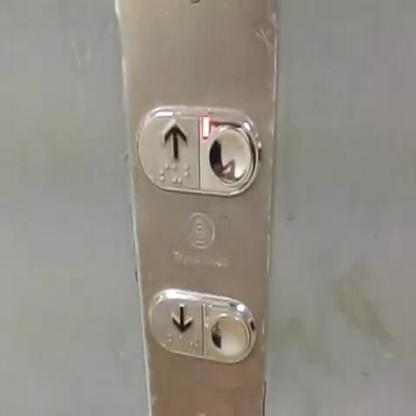down: (145, 284, 259, 368)
up: (132, 99, 262, 201)
